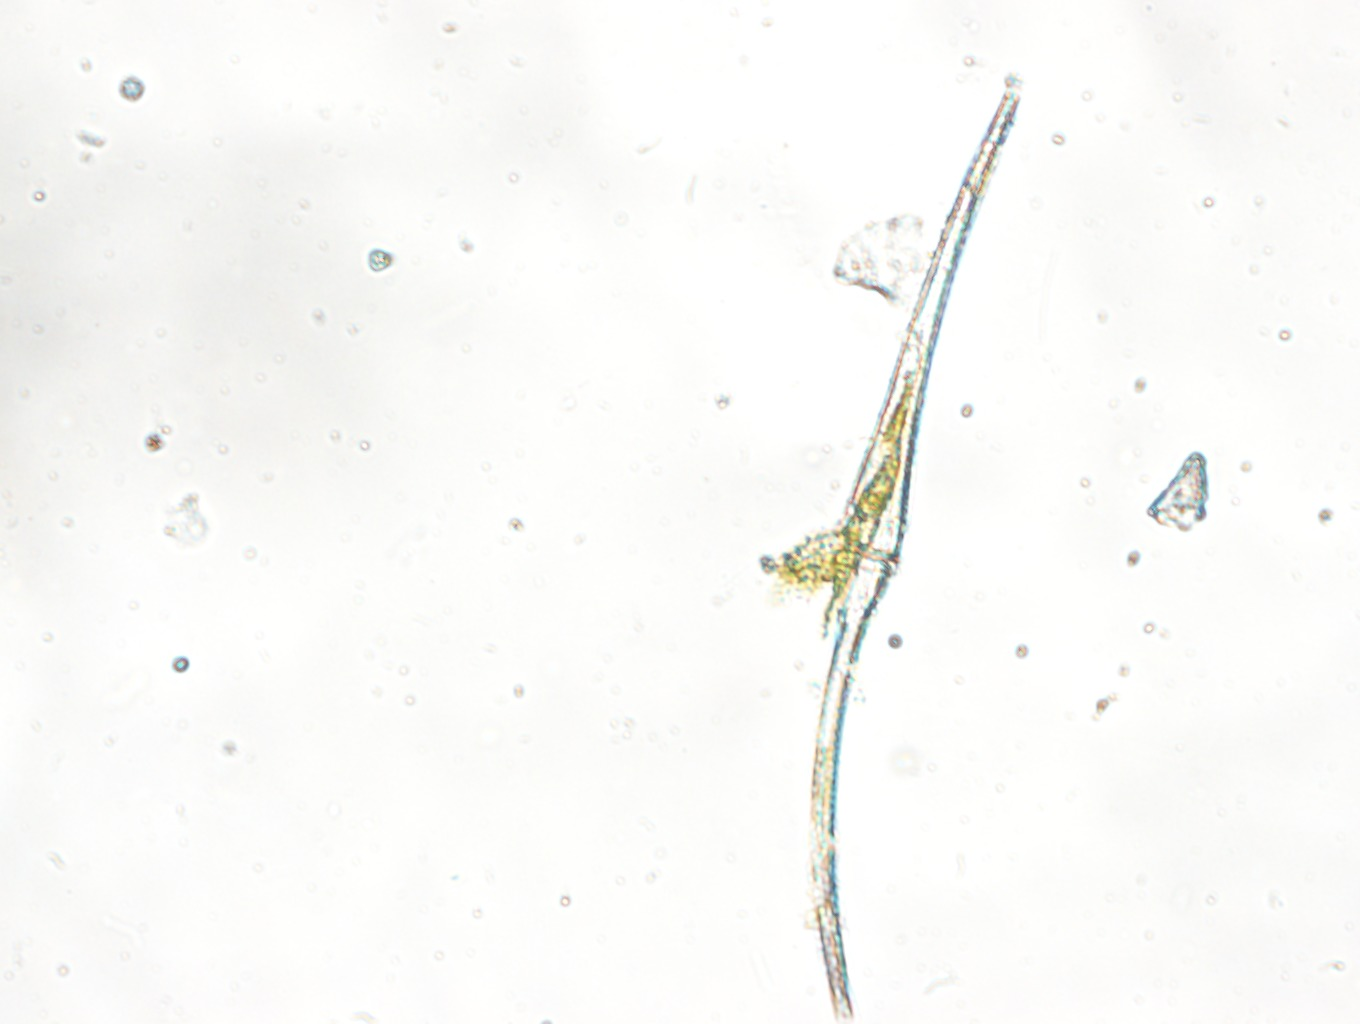ceratium fusus: (781, 82, 1035, 1022)
